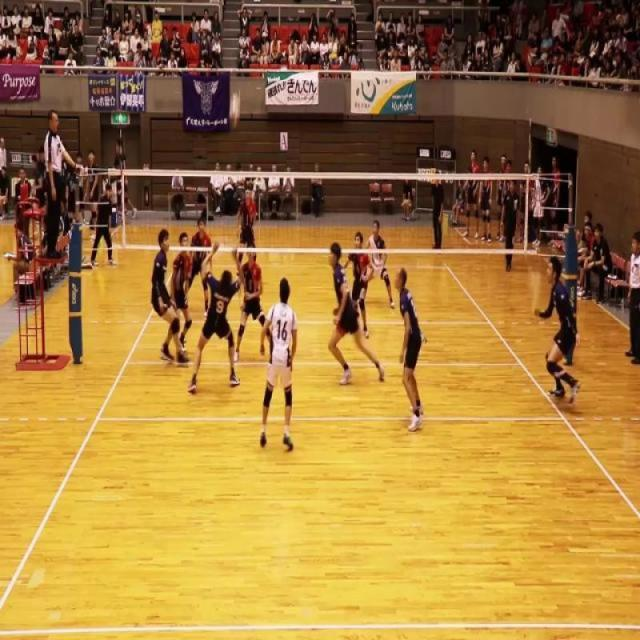volleyball: (229, 90, 241, 133)
